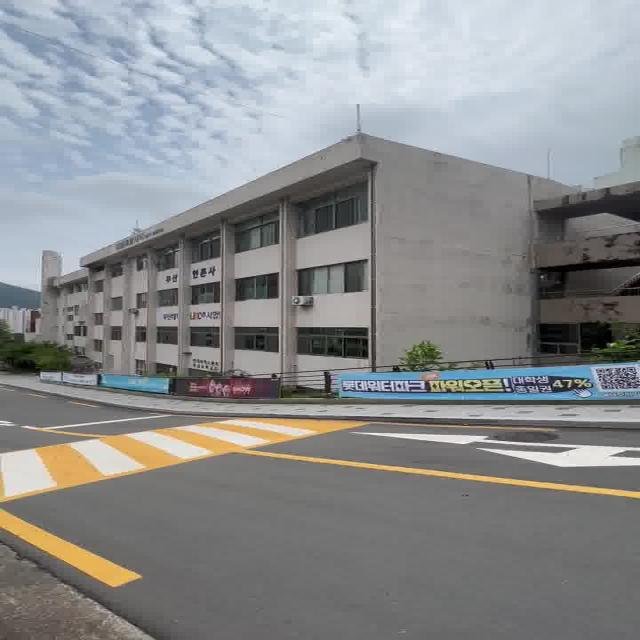building: (62, 146, 640, 358)
